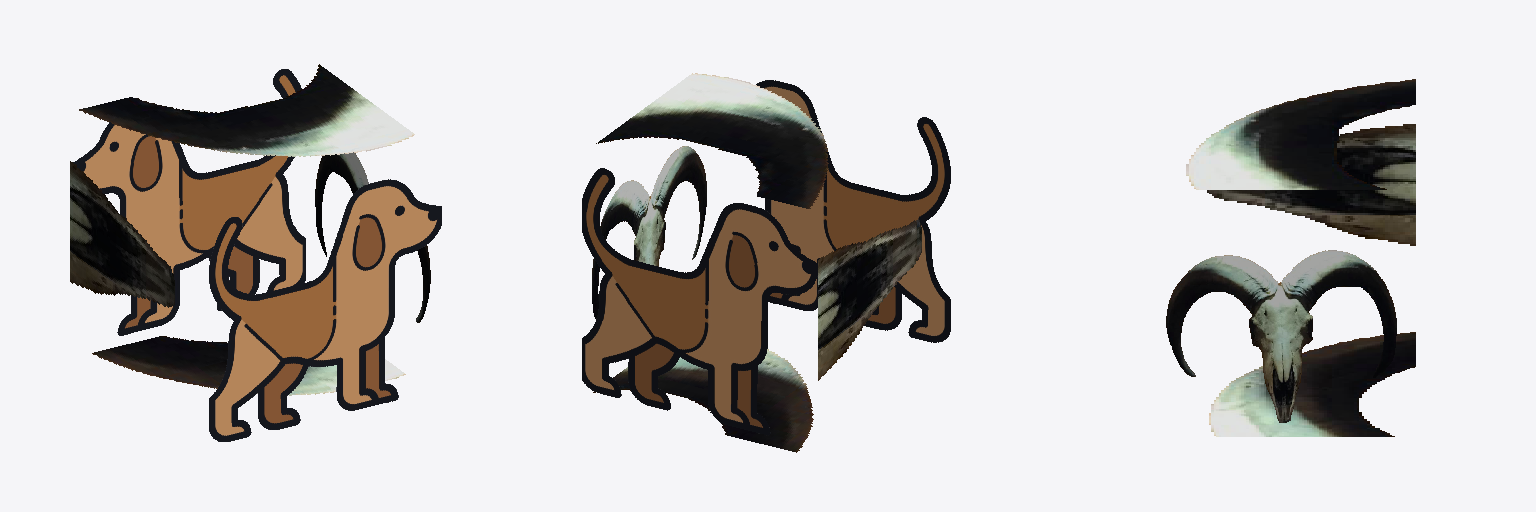
3 views of the same model, side by side, from view 1: azimuth 30°, elevation 25°; view 2: azimuth 150°, elevation 25°; view 3: azimuth 270°, elevation 25° (orthographic).
Parts seen in each view (by area): view 1: Cube; view 2: Cube; view 3: Cube.
Boxes of the visible parts, x1=… form: Cube: x1=70, y1=64, x2=441, y2=441; Cube: x1=582, y1=73, x2=950, y2=452; Cube: x1=1166, y1=79, x2=1415, y2=436.
Size of the model in its own units: 2 by 2 by 2.
Materials: 2 (2 with a texture image).